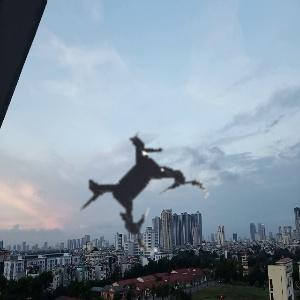drone: (41, 87, 245, 291)
